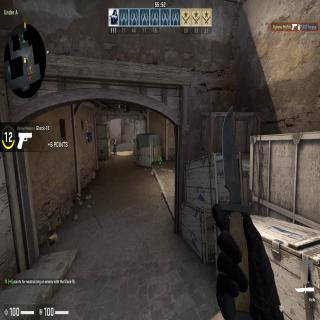CT-Body: (112, 138, 116, 150)
CT-Head: (112, 138, 116, 142)
